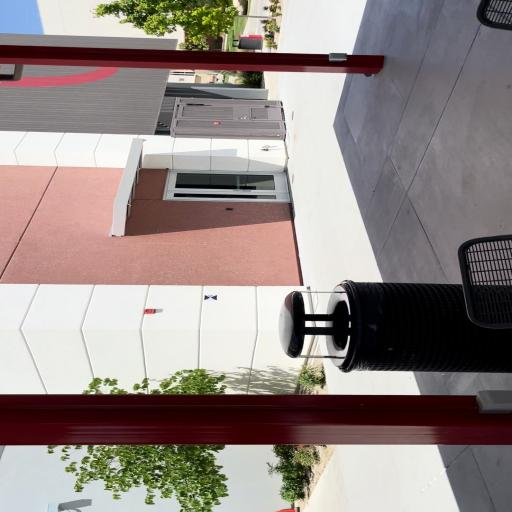target6: (204, 295, 217, 300)
